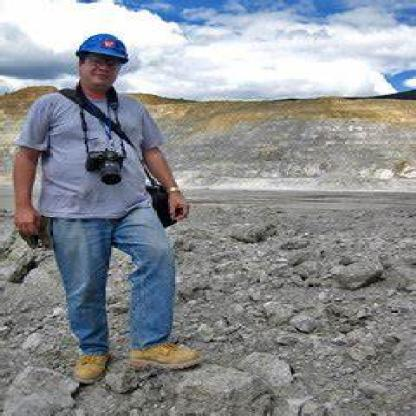person: (7, 28, 203, 404)
